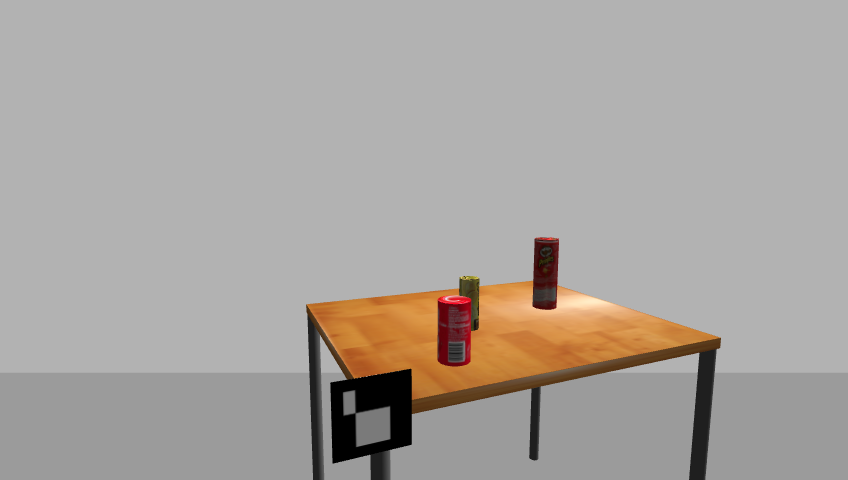aruco marker: (323, 368, 417, 465)
biscuits pack: (458, 275, 481, 333)
coke can: (435, 295, 472, 367)
dinner table: (295, 280, 731, 479)
pringles can: (531, 236, 561, 312)
